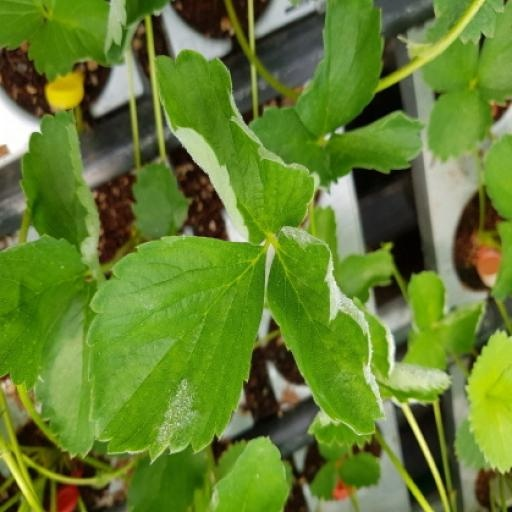Powdery Mildew Leaf: (245, 43, 428, 278), (196, 267, 360, 463), (127, 74, 246, 288), (222, 0, 321, 77), (337, 447, 410, 511), (116, 132, 160, 215), (60, 107, 137, 149)
